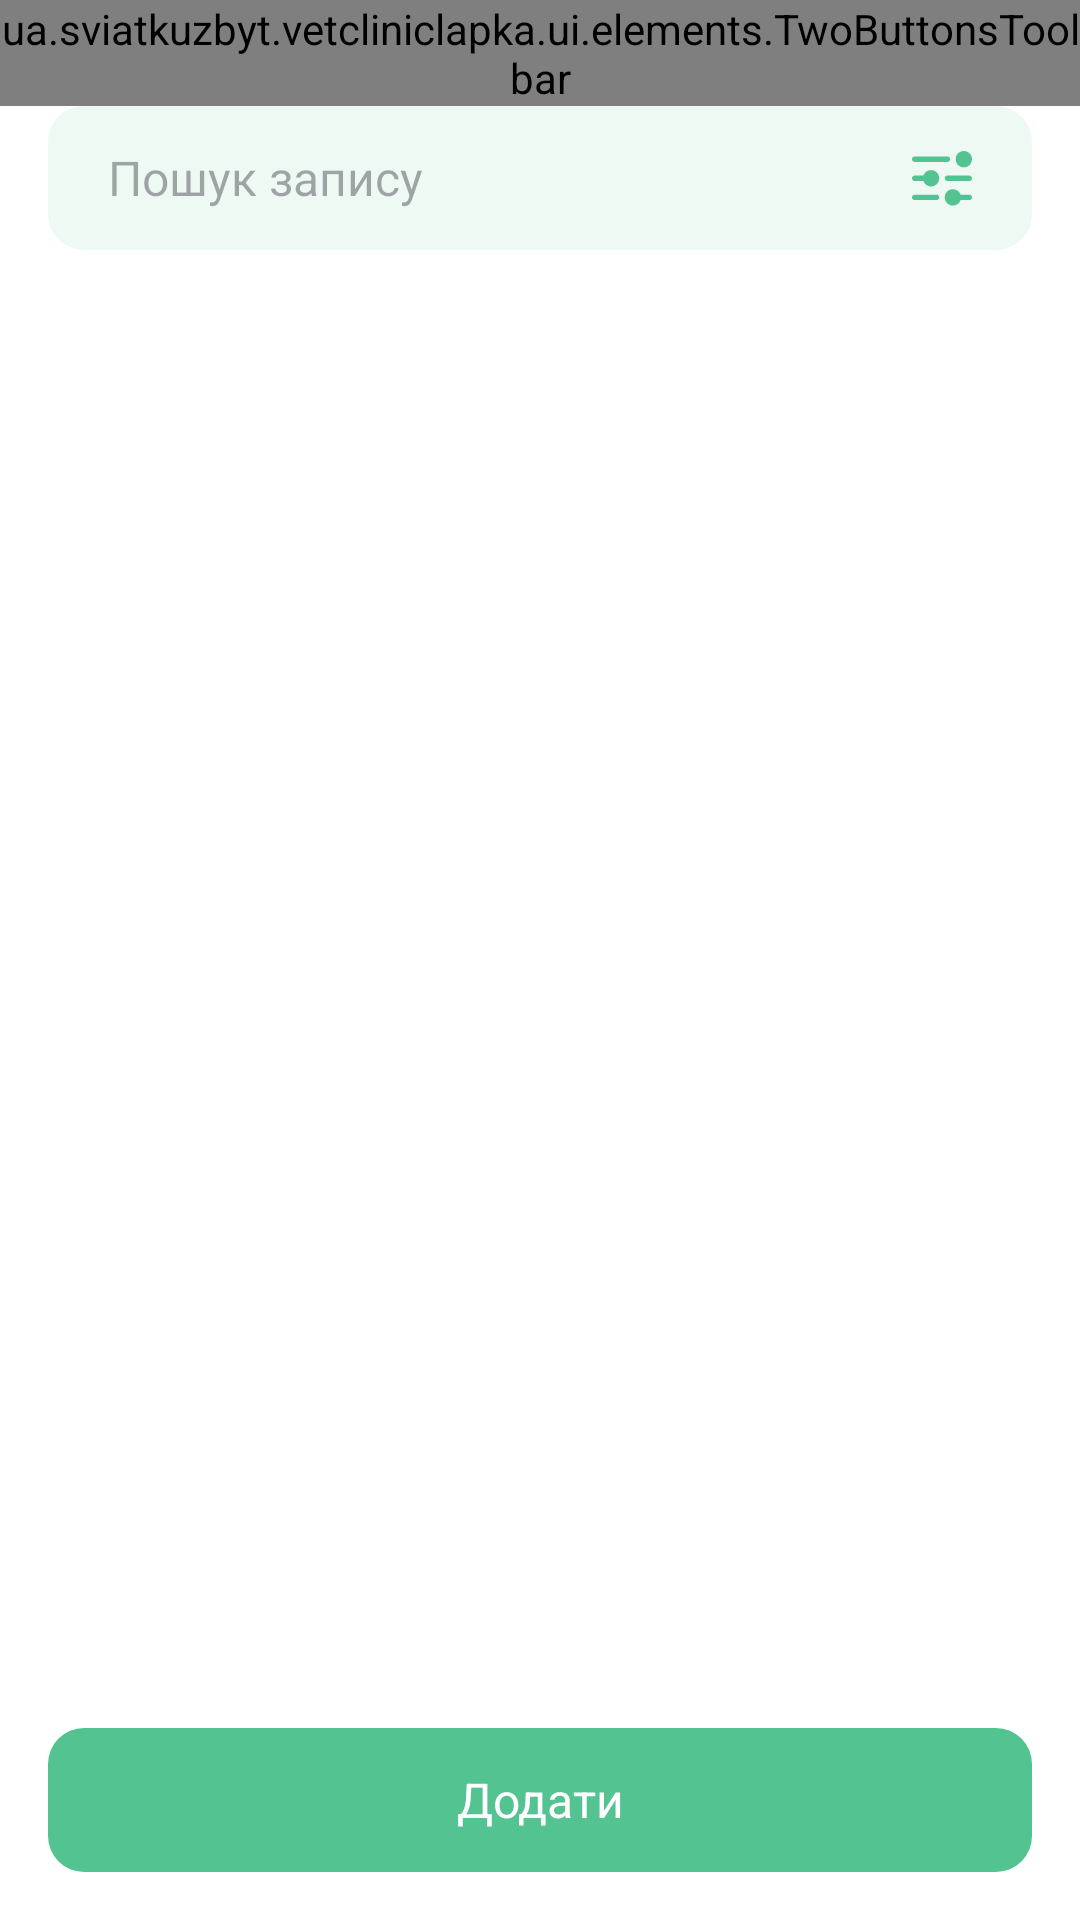

Icons on this 1080px x 1920px Android screen, each with the point to tap as [x,y]:
filter: [942,178]
